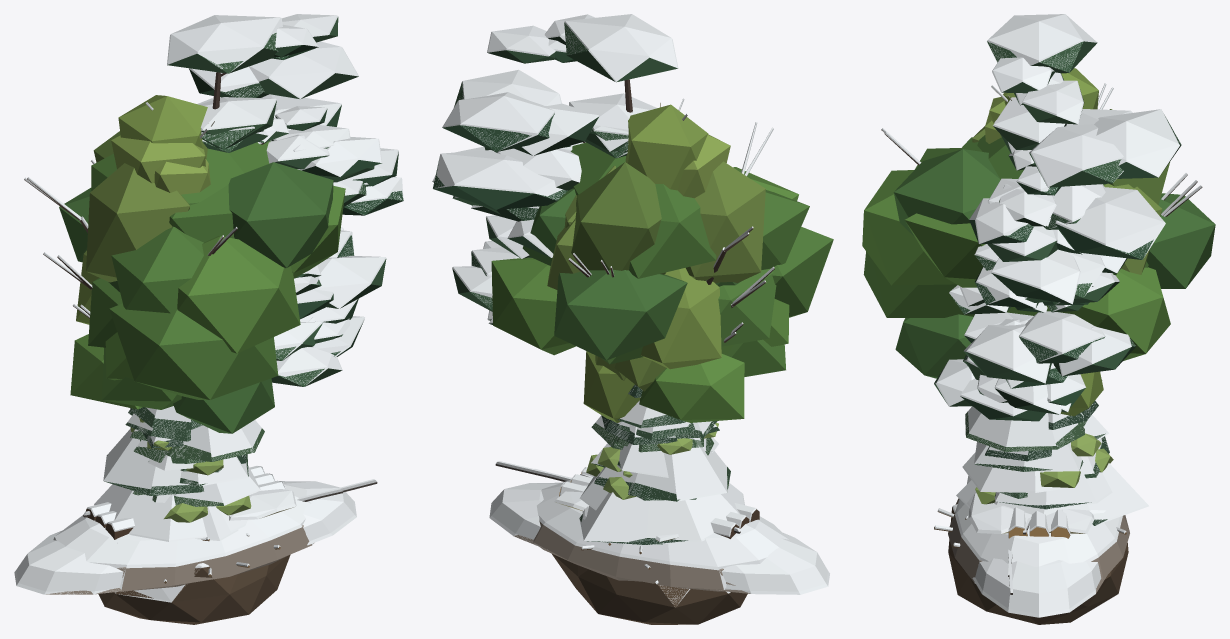
File: flora_shield.glb
3 views of the same model, side by side, from view 1: azimuth 30°, elevation 25°; view 2: azimuth 150°, elevation 25°; view 3: azimuth 270°, elevation 25° (orthographic). The views are drawn at different scales.
Visible parts, largest first — view 1: maple_0_leaves, maple_2_leaves, white_pine_0_snow, white_pine_2_snow, spruce_4_snow, outcrop_2_snow, outcrop_0_snow, maple_1_leaves, birch_1_leaves, beaver_lodge_0_main, aspen_2_leaves, white_pine_0_main (+16 smaller); view 2: white_pine_0_snow, maple_2_leaves, maple_0_leaves, birch_2_leaves, spruce_4_snow, white_pine_0_main, maple_1_leaves, outcrop_2_snow, outcrop_0_snow, birch_1_leaves, beaver_lodge_0_main, aspen_2_leaves (+16 smaller); view 3: white_pine_0_snow, maple_2_leaves, maple_0_leaves, white_pine_2_snow, white_pine_0_main, outcrop_0_snow, white_pine_1_snow, spruce_4_snow, outcrop_2_snow, white_pine_3_snow, spruce_3_snow, maple_1_leaves (+17 smaller).
Part boxes in pixels (x1,y1,x2,y2): maple_0_leaves: [59, 184, 300, 399]; maple_2_leaves: [88, 141, 345, 347]; white_pine_0_snow: [167, 14, 398, 184]; white_pine_2_snow: [202, 106, 386, 385]; spruce_4_snow: [94, 406, 261, 541]; outcrop_2_snow: [53, 483, 313, 589]; outcrop_0_snow: [14, 479, 376, 594]; maple_1_leaves: [70, 334, 274, 433]; birch_1_leaves: [86, 163, 189, 282]; beaver_lodge_0_main: [98, 535, 290, 624]; aspen_2_leaves: [118, 95, 210, 194]; white_pine_0_main: [167, 17, 398, 186]; white_pine_0_snow: [432, 14, 678, 258]; maple_2_leaves: [491, 142, 776, 364]; maple_0_leaves: [554, 167, 833, 360]; birch_2_leaves: [547, 162, 721, 369]; spruce_4_snow: [579, 385, 744, 544]; white_pine_0_main: [433, 22, 677, 258]; maple_1_leaves: [639, 339, 785, 422]; outcrop_2_snow: [537, 473, 788, 589]; outcrop_0_snow: [489, 461, 829, 594]; birch_1_leaves: [686, 161, 765, 283]; beaver_lodge_0_main: [552, 543, 747, 624]; aspen_2_leaves: [625, 104, 708, 190]; white_pine_0_snow: [987, 14, 1179, 388]; maple_2_leaves: [893, 135, 1170, 360]; maple_0_leaves: [862, 137, 1215, 317]; white_pine_2_snow: [934, 142, 1126, 416]; white_pine_0_main: [987, 41, 1181, 388]; outcrop_0_snow: [972, 549, 1101, 617]; white_pine_1_snow: [964, 120, 1135, 402]; spruce_4_snow: [965, 406, 1148, 524]; outcrop_2_snow: [955, 499, 1122, 583]; white_pine_3_snow: [960, 97, 1085, 414]; spruce_3_snow: [974, 421, 1112, 508]; maple_1_leaves: [895, 314, 974, 378].
Size of the model in its own units: 13.42 by 19.71 by 10.36.
